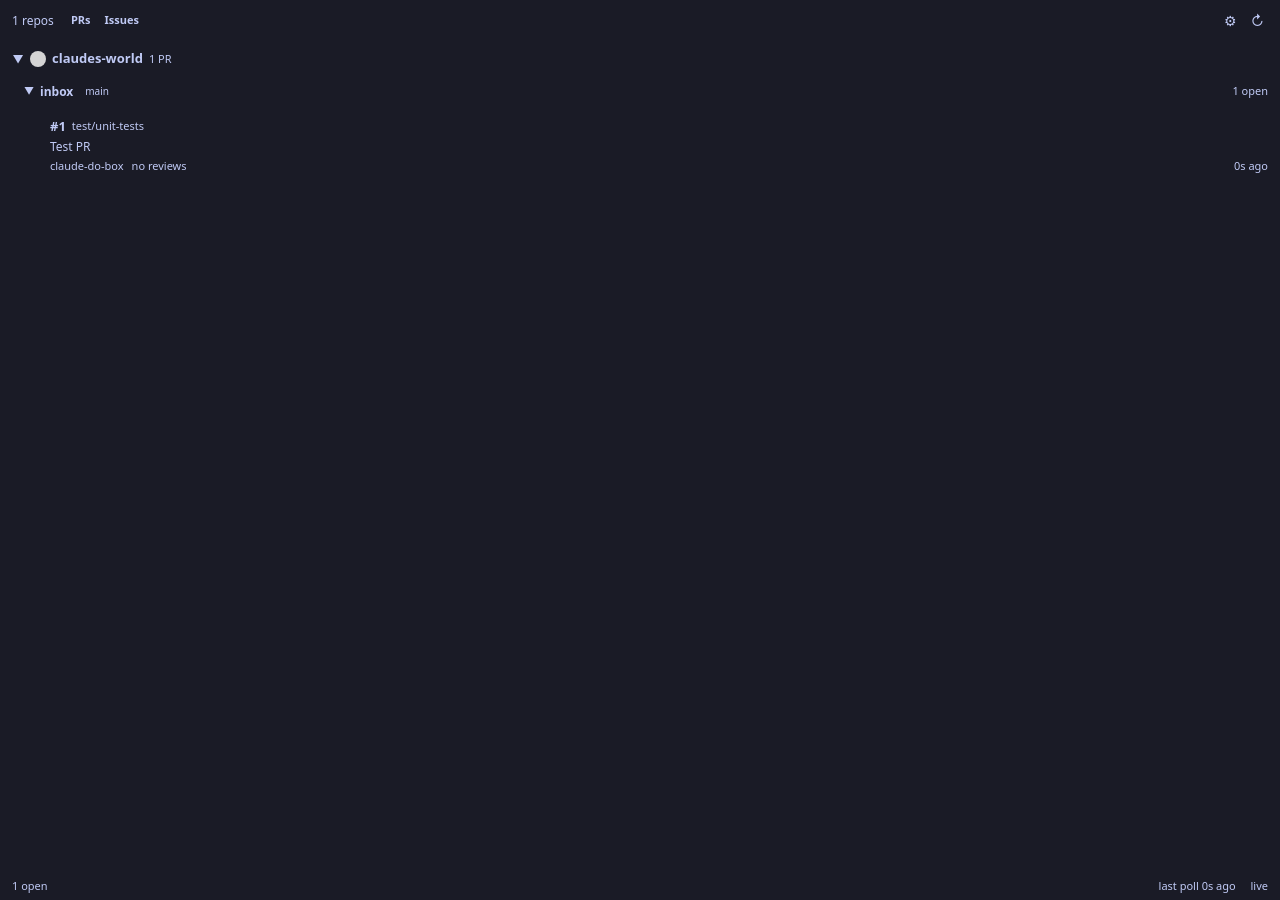
Scenario: PrTicker › collapses and expands org sections
Expected: the text "#1" is shown, [50,116,66,136]
# Click org heading to collapse
Step 1. Click the text "claudes-world" → (97, 59), box [52,49,143,68]
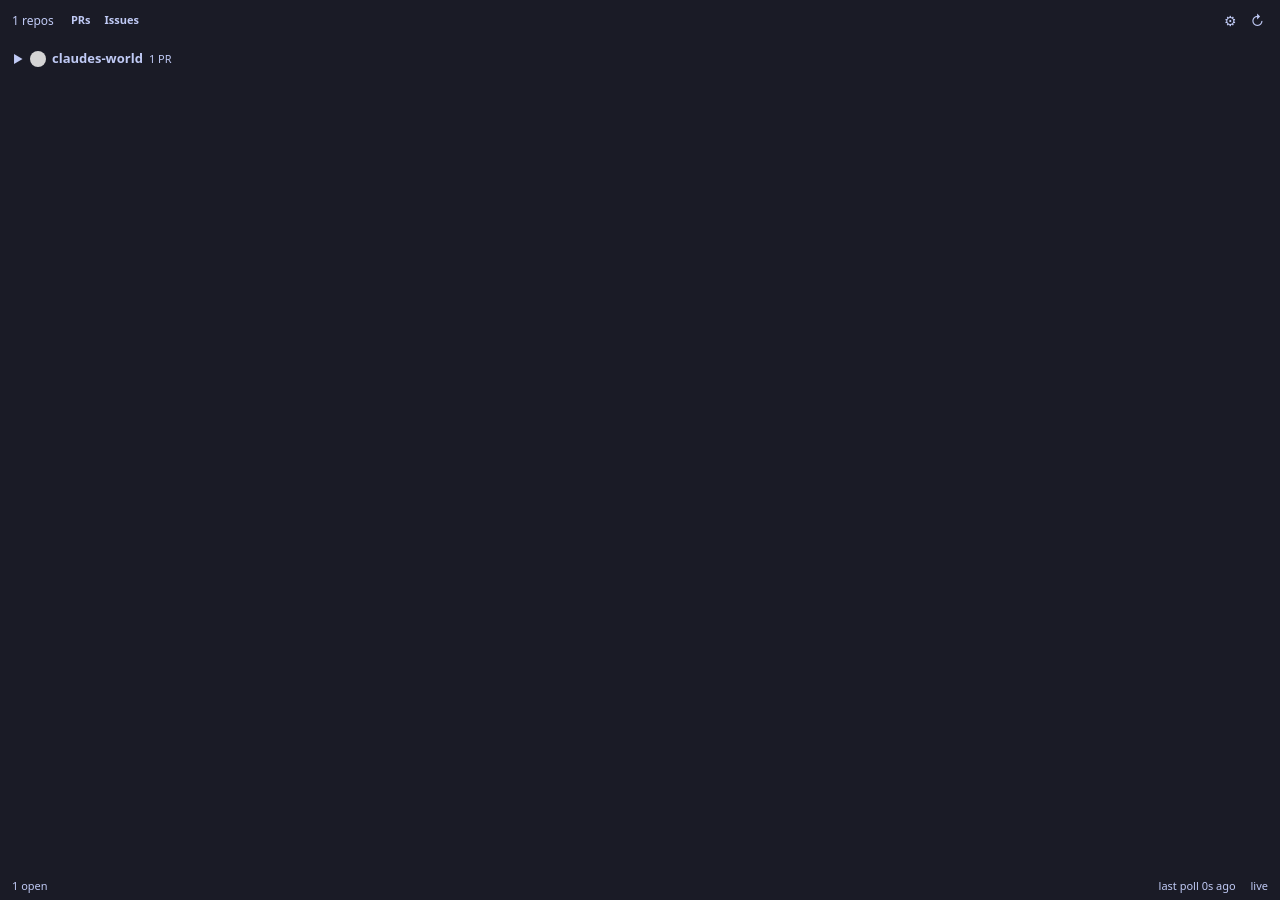
Result: the text "#1" is gone
# Click again to expand
Step 2. Click the text "claudes-world" → (97, 59), box [52,49,143,68]
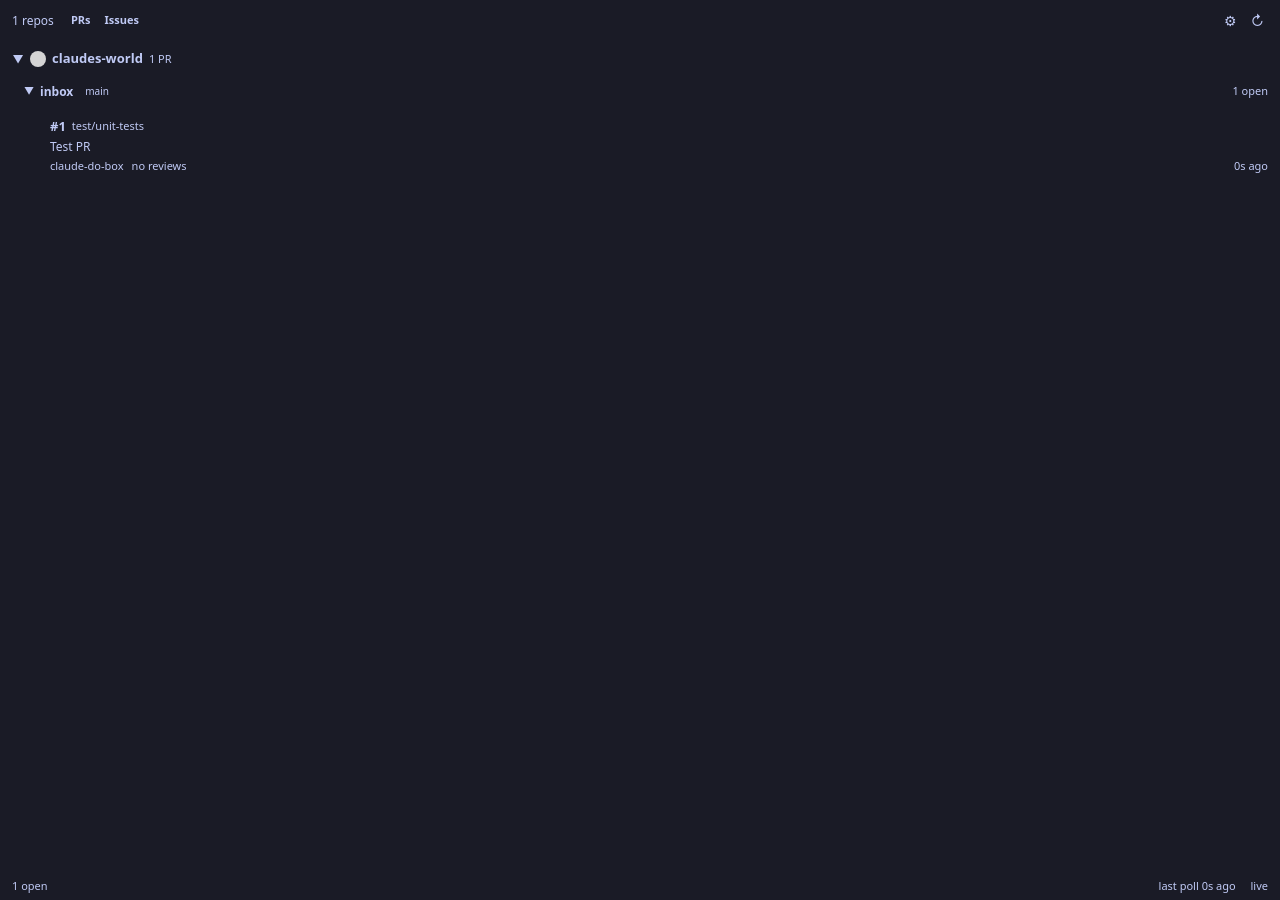
Result: the text "#1" is shown at [50,116,66,136]
